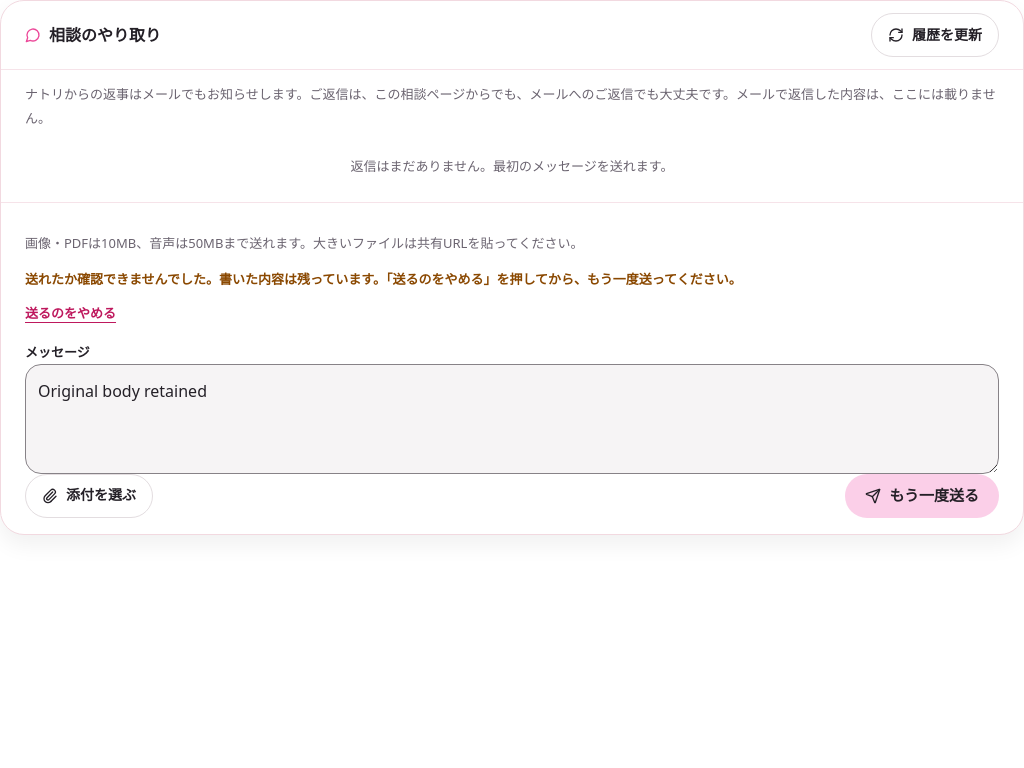
Test: consultation expired notice preserves original draft › keeps the same pending operation and expiry guidance when cancellation acknowledgement is unknown
This screenshot has width=1024, height=768.
Expected: the text "送れたか確認できませんでした。書いた内容は残っています。「送るのをやめる」を押してから、もう一度送ってください。" is shown, top-left (25, 270), bottom-right (742, 288)
Click the button "送るのをやめる" at (70, 314), box top-left (25, 303), bottom-right (116, 324)
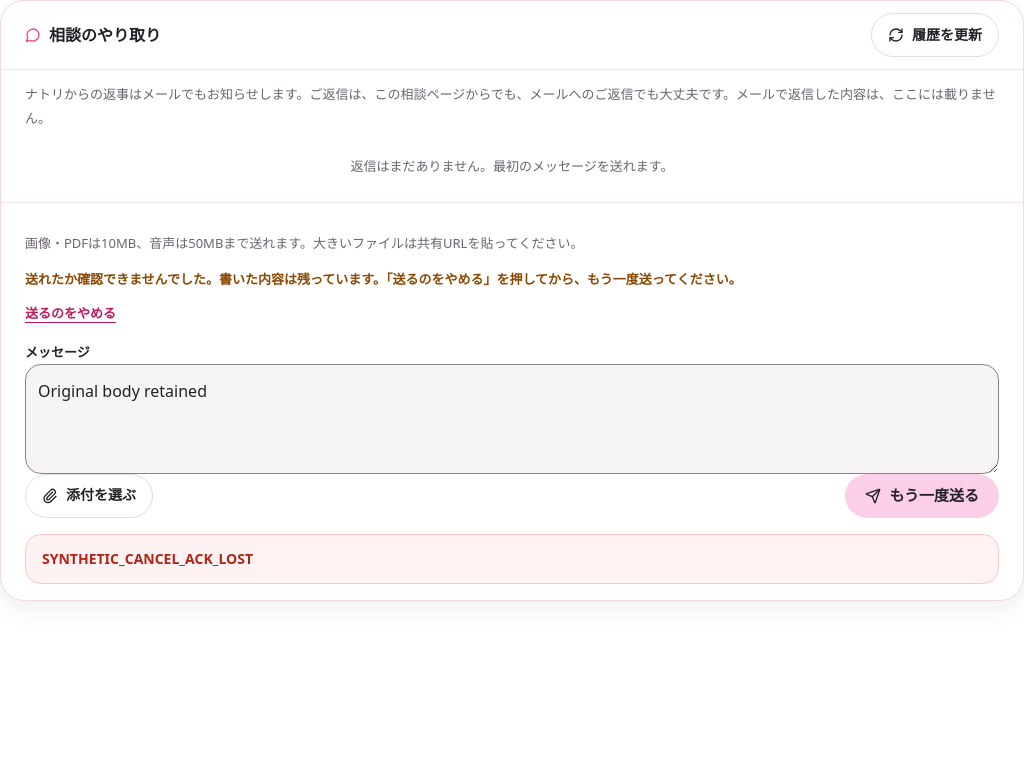
Expected: the text box holds "Original body retained", top-left (25, 364), bottom-right (999, 474)
Expected: the message "SYNTHETIC_CANCEL_ACK_LOST" is shown, top-left (25, 534), bottom-right (999, 584)
